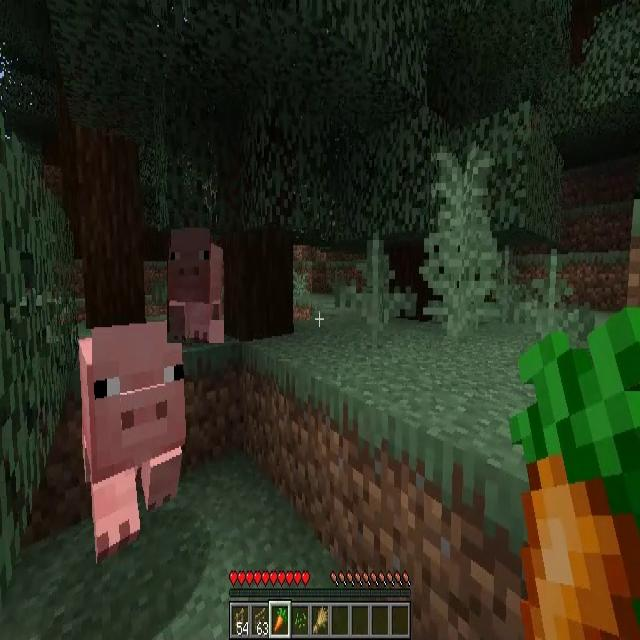pig: (78, 320, 182, 568), (167, 229, 224, 343)
